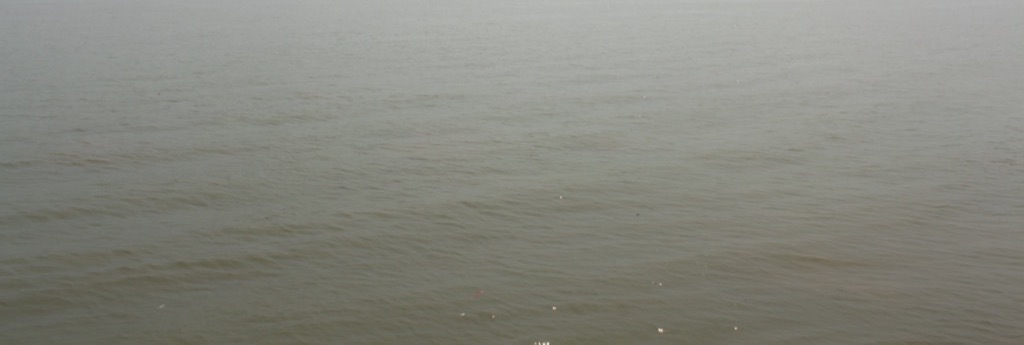organic: (630, 209, 644, 220)
plastic: (463, 277, 494, 309), (145, 298, 175, 319)
